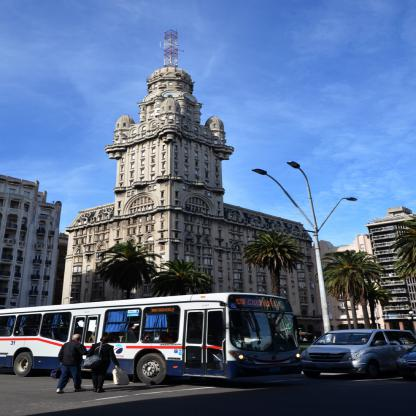Bus: (0, 293, 307, 387)
